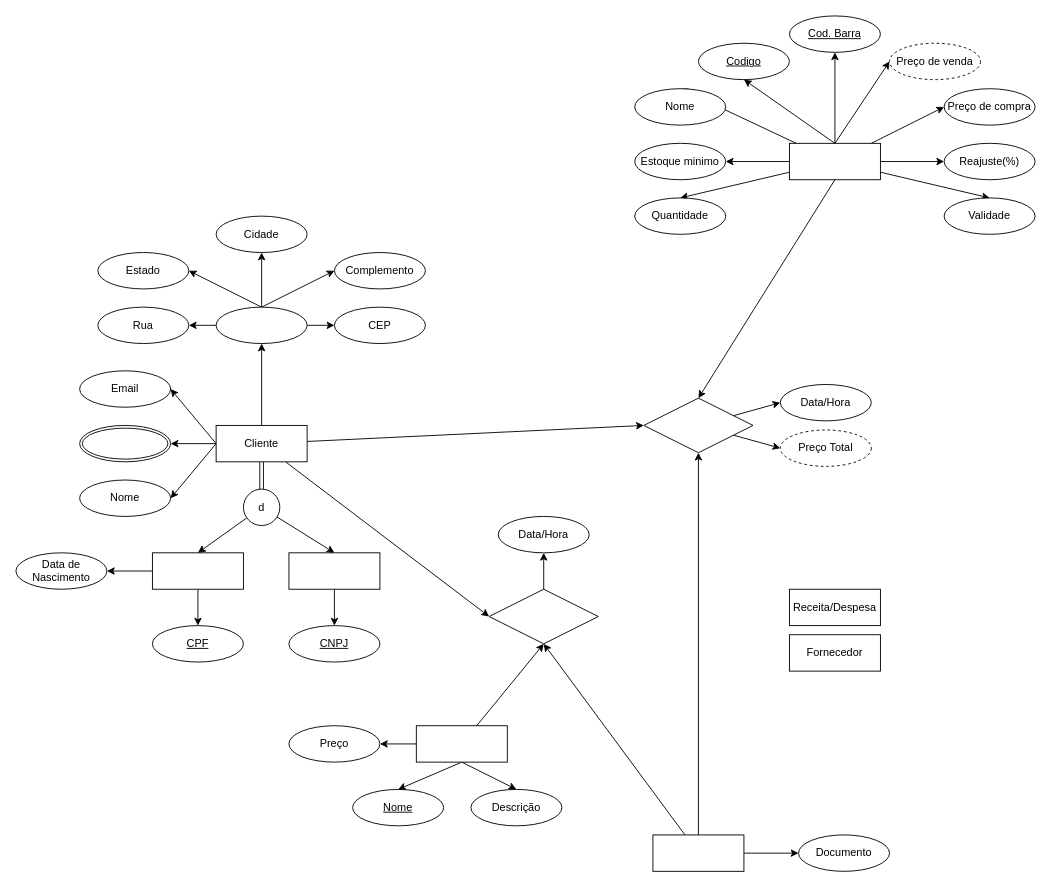
This 1051x887 diagram has some shape labels left out. The shapes that lost their labels are listed below. From the top down, each one's centre as x and y in pixels, then its label:
At (x=834, y=161): "Produto".
At (x=261, y=325): "Endereço".
At (x=125, y=443): "Telefone".
At (x=698, y=425): "Venda".
At (x=197, y=570): "PF".
At (x=334, y=570): "PJ".
At (x=543, y=616): "Serviço".
At (x=461, y=743): "Tipo".
At (x=698, y=852): "Forma de pagamento".
